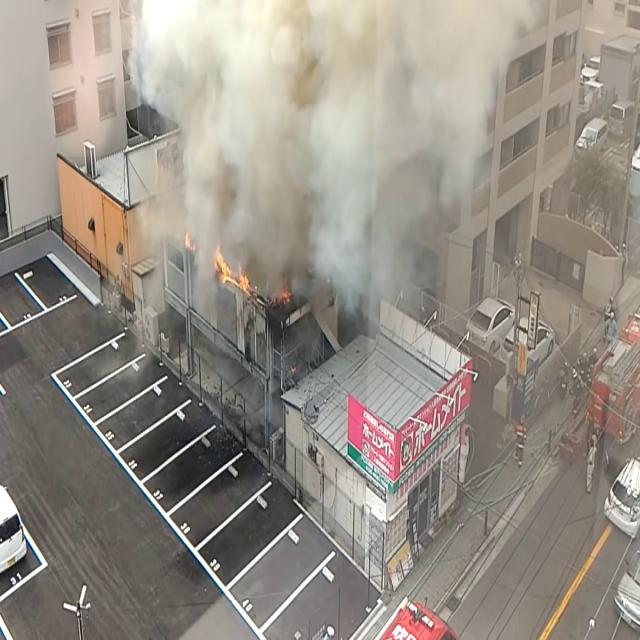Fire: (213, 244, 251, 296)
Smoke: (125, 0, 535, 328)
